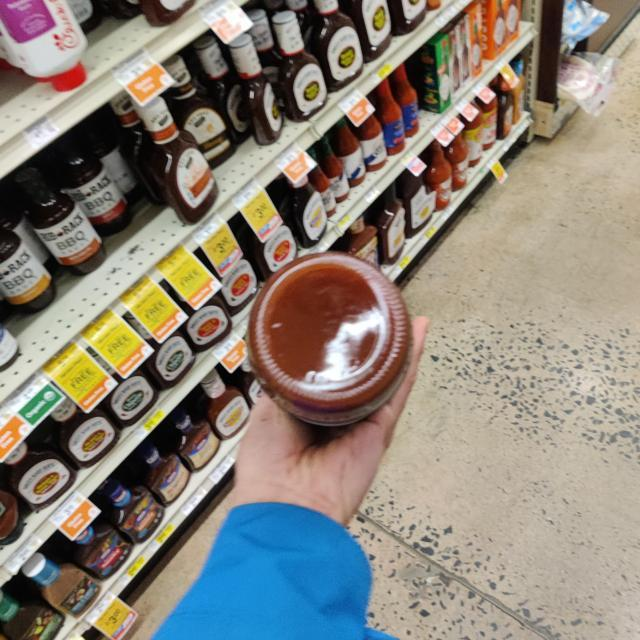Sauce: (234, 250, 423, 433)
